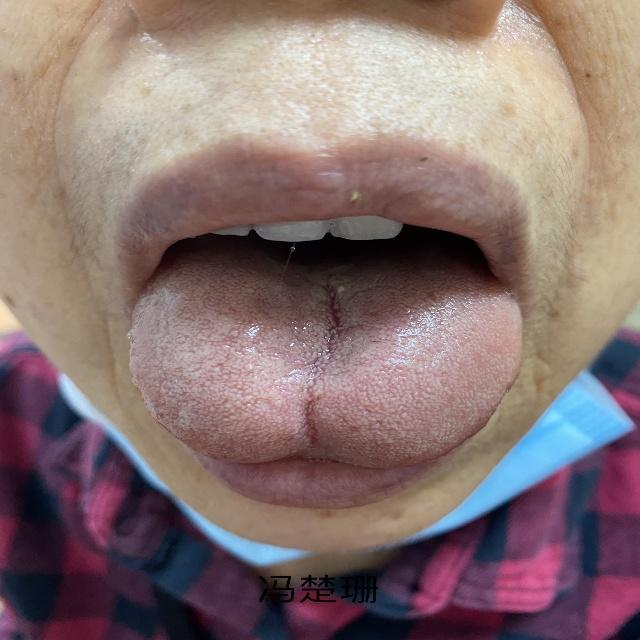baitaishe: (126, 261, 524, 465)
liewenshe: (316, 277, 353, 374)
pangdashe: (126, 260, 524, 464)
